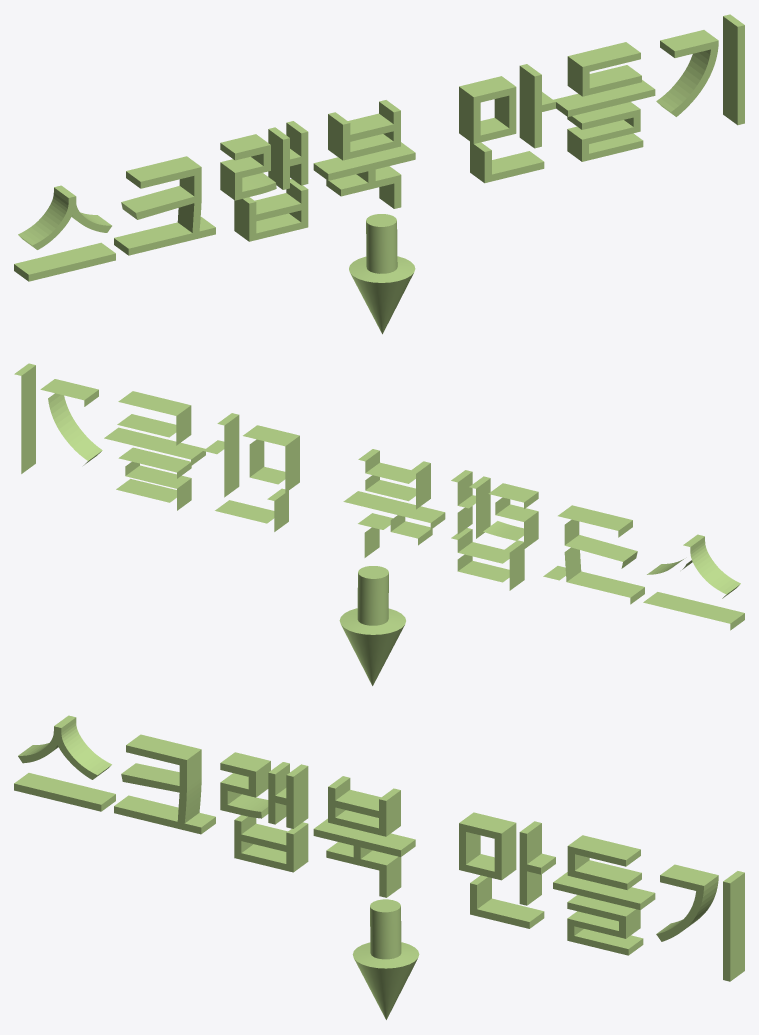
Rendered from scrapbooktext.gltf.
3 renders of one model, top to bottom at view 1: azimuth 30°, elevation 25°; view 2: azimuth 150°, elevation 25°; view 3: azimuth 330°, elevation 25°, orthographic.
Parts seen in each view (by area): view 1: Cone001; view 2: Cone001; view 3: Cone001.
Part boxes in pixels (bbox=[...]): Cone001: bbox=[14, 14, 744, 334]; Cone001: bbox=[14, 363, 744, 685]; Cone001: bbox=[14, 715, 744, 1019].
Bounding box in the file's own units: 2.74 × 0.8415 × 0.2208.
